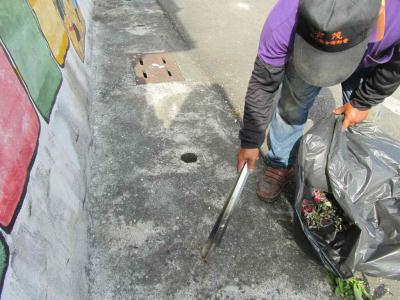plastic_bag: (302, 126, 400, 282)
